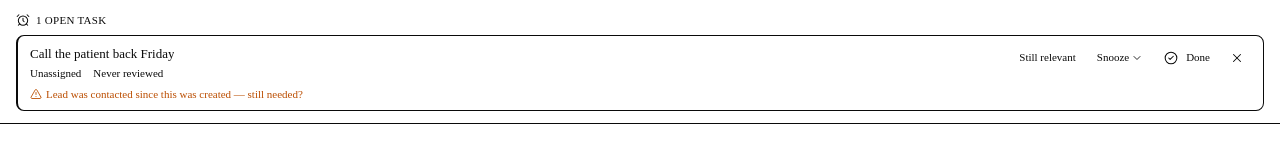
Test: LeadTaskCard › "Still relevant" PATCHes review and clears the moot flag without removing the row
The image size is (1280, 160).
What coordinates should you click on to do the following:
click the button "Still relevant"
I would click on:
 (1048, 58)
Its box is [1010,44,1085,72].
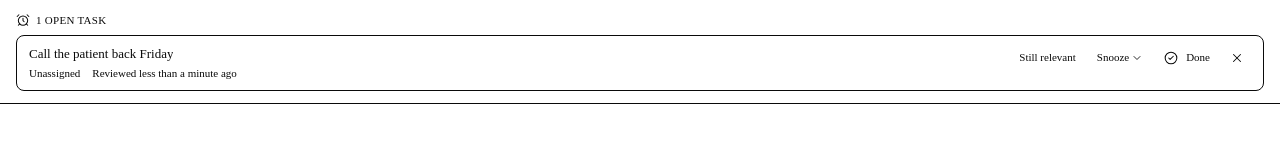
Expected: the text "Call the patient back Friday" is shown, [29,44,173,63]
Expected: the text "still needed" is gone
